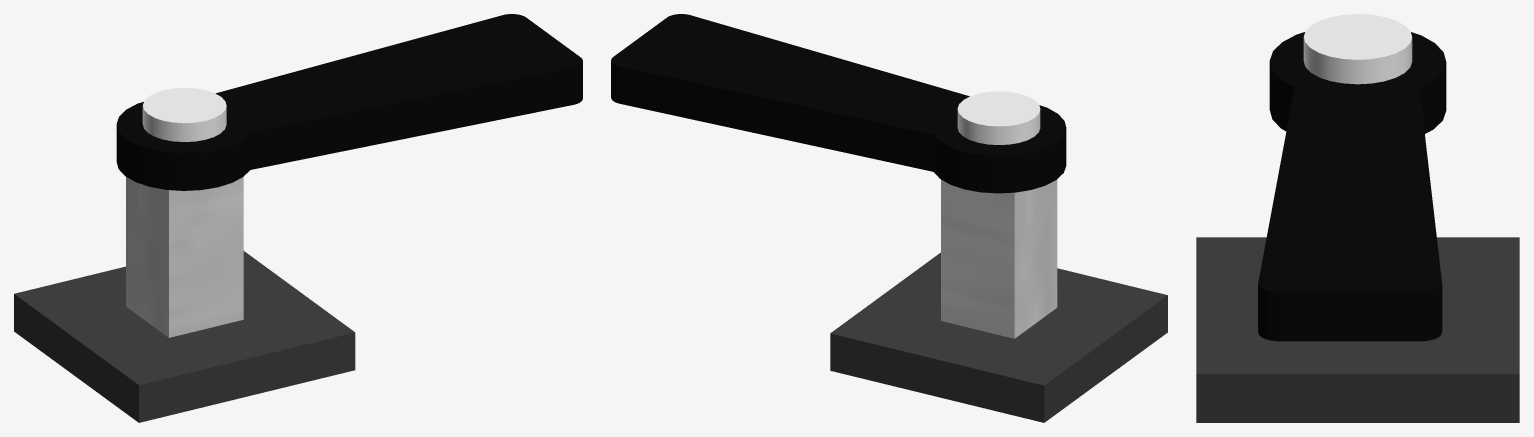
The model's file is Alavancas.dae.
3 views of the same model, side by side, from view 1: azimuth 30°, elevation 25°; view 2: azimuth 150°, elevation 25°; view 3: azimuth 270°, elevation 25° (orthographic). The views are drawn at different scales.
Parts seen in each view (by area): view 1: instance_0 (×5); view 2: instance_0 (×5); view 3: instance_0 (×4).
Part boxes in pixels (<box>): instance_0 (×5): <box>14,14,582,422</box>; instance_0 (×5): <box>611,14,1167,422</box>; instance_0 (×4): <box>1196,14,1519,422</box>.
Bounding box in the file's own units: 5.17 × 2.36 × 2.56.
Materials: 4 (1 with a texture image).
